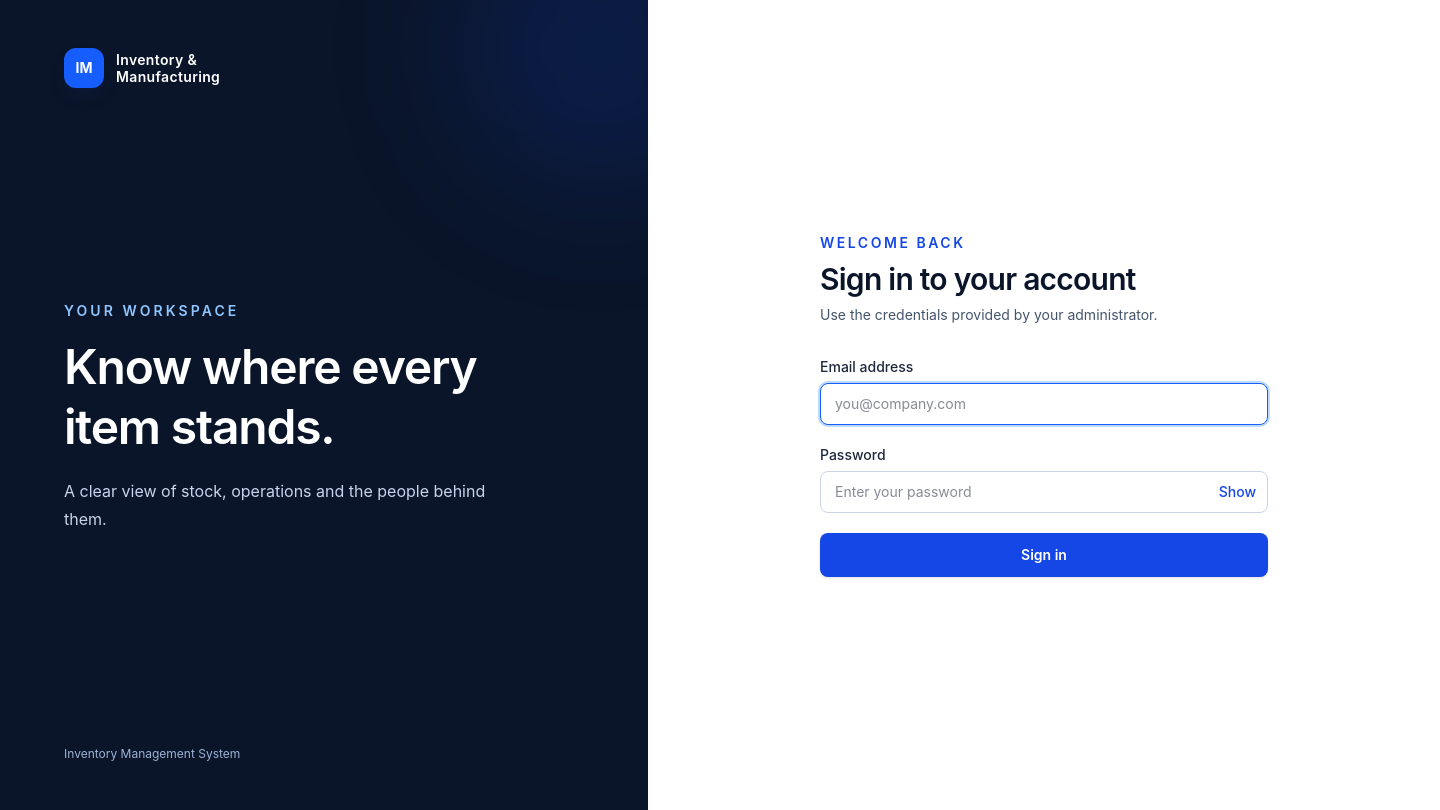
Test: frontend authentication › shows incorrect credentials without exposing a protected page
Expected: the heading "Sign in to your account" is shown, x1=820 y1=261 x2=1136 y2=297
Type "admin@example.com" into the field labelled "Email address".
click(1044, 404); type("admin@example.com")  # box x1=820 y1=383 x2=1268 y2=425
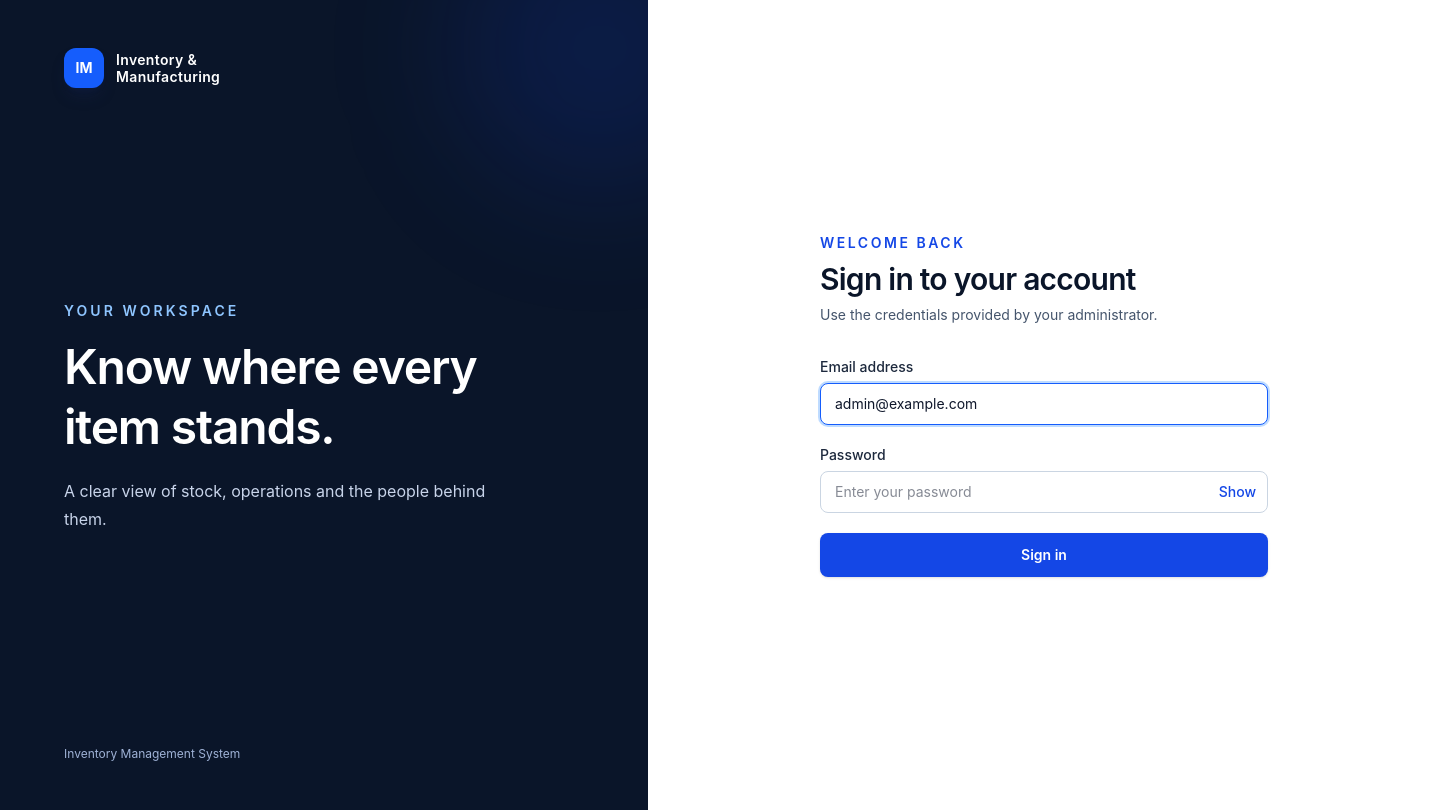
Type "correct-password" into the password field labelled "Password".
click(1044, 492); type("correct-password")  # box x1=820 y1=471 x2=1268 y2=513
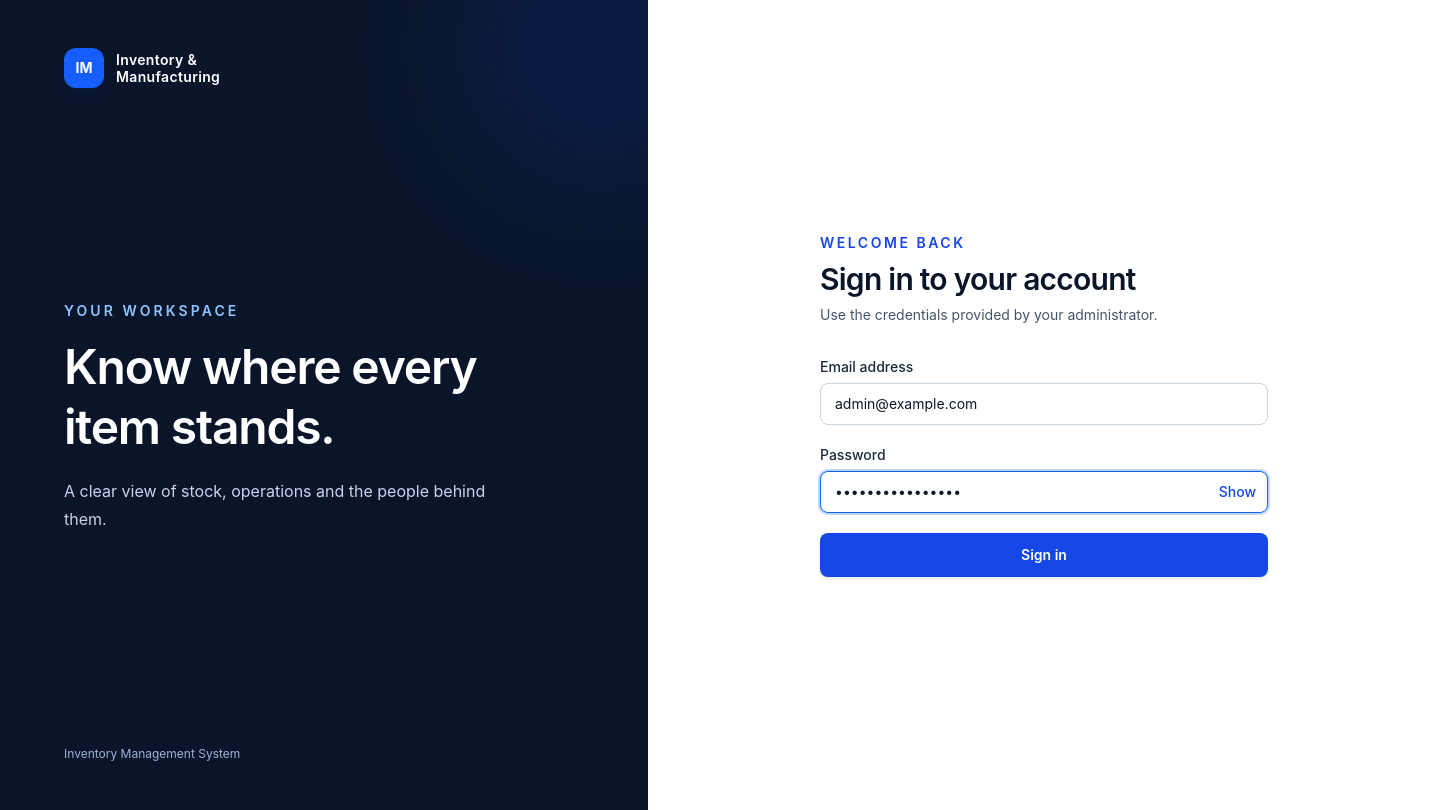
Click the button "Sign in".
click(1044, 555)  # box x1=820 y1=533 x2=1268 y2=577
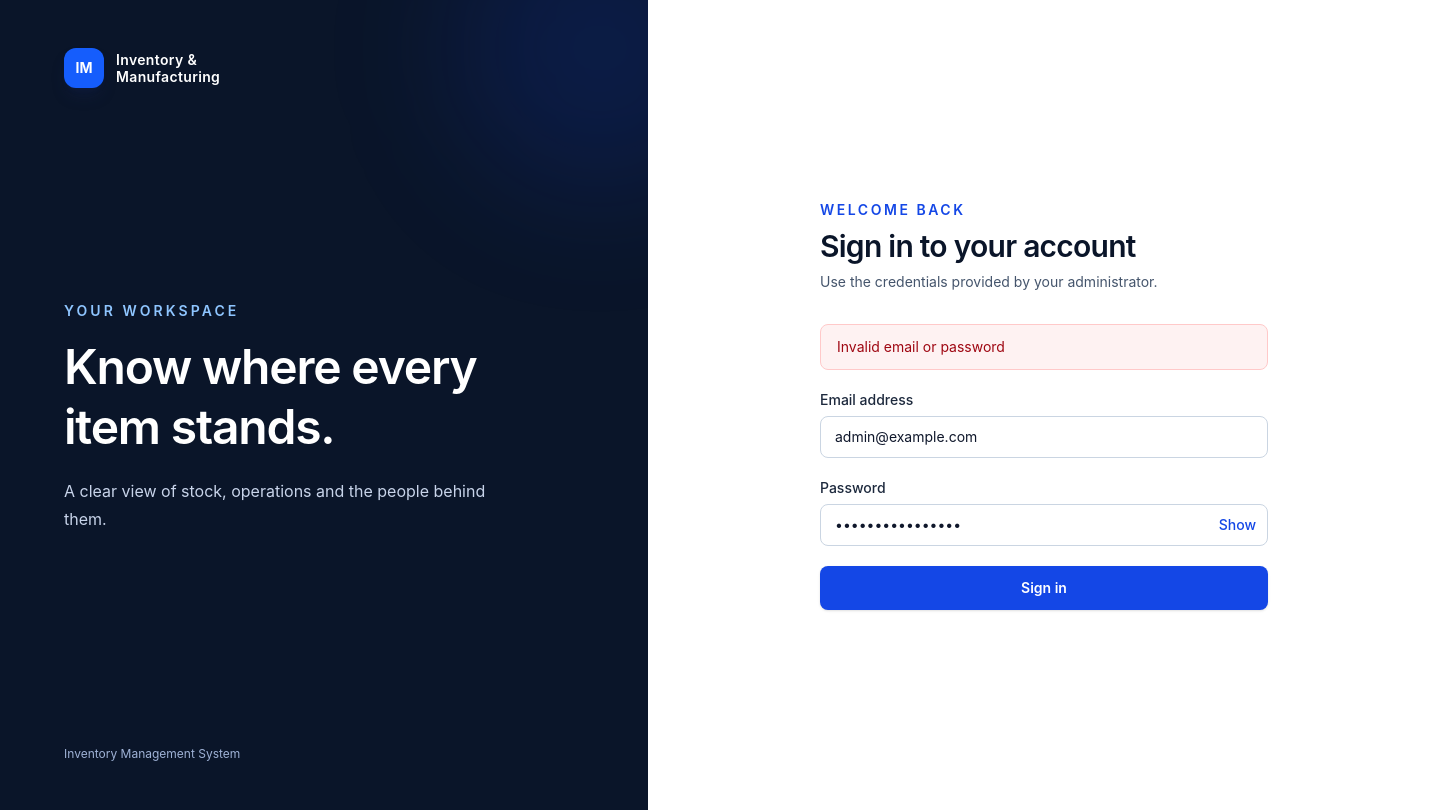
Now the message reads "Invalid email or password", box x1=837 y1=338 x2=1005 y2=355
